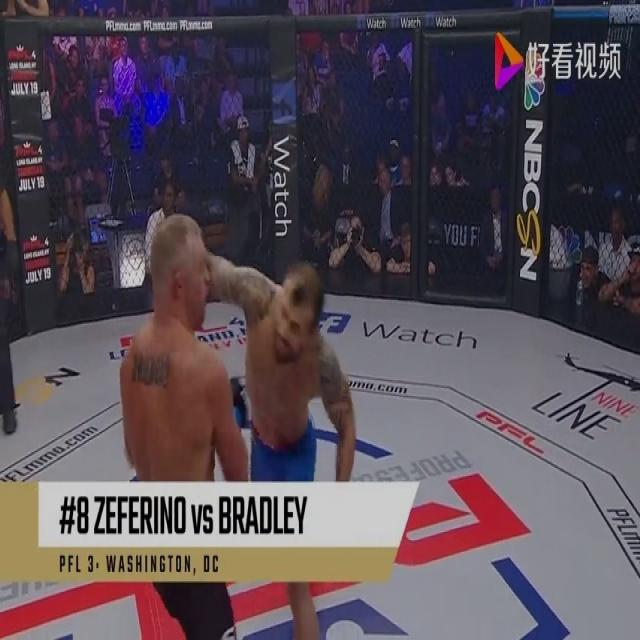fight: (120, 210, 358, 640)
